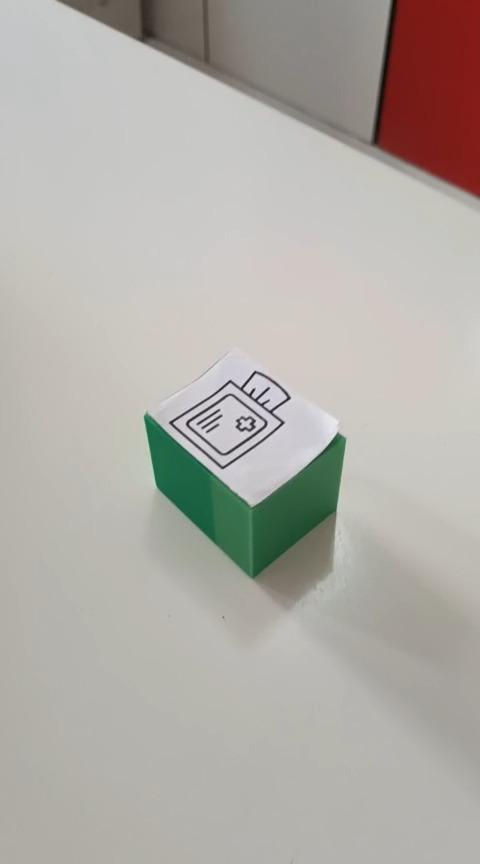Gauze: (142, 346, 346, 579)
